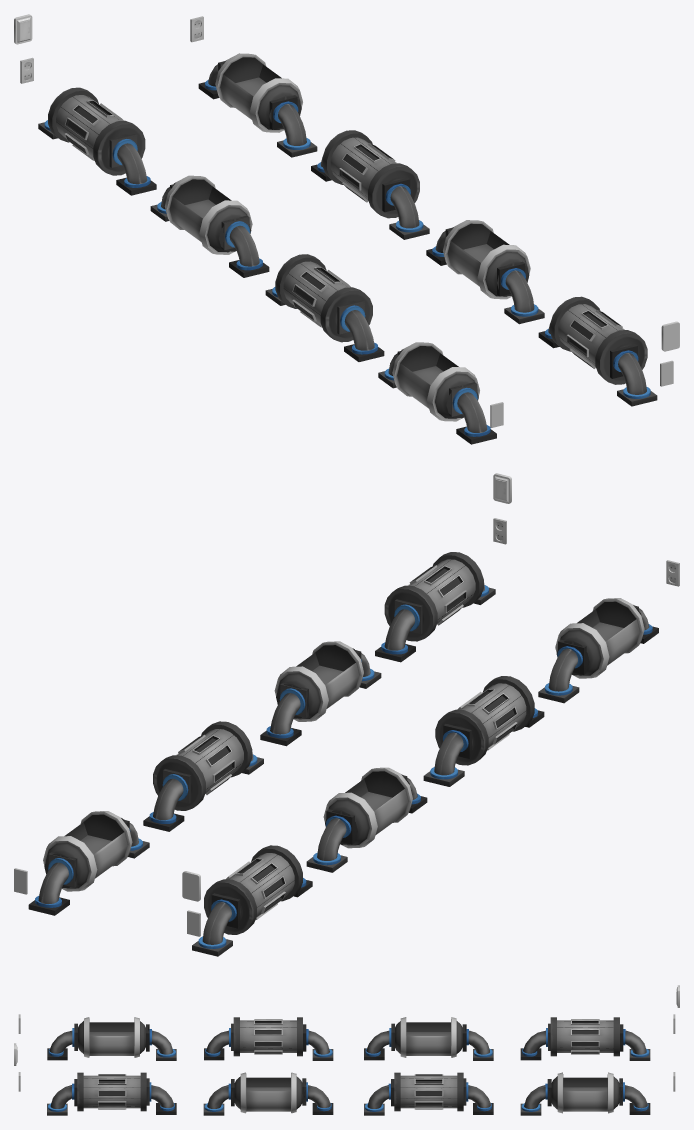
Rendered from Room12Set1.FBX.
3 renders of one model, top to bottom at view 1: azimuth 30°, elevation 25°; view 2: azimuth 150°, elevation 25°; view 3: azimuth 270°, elevation 25°, orthographic. The views are drawn at different scales.
Parts seen in each view (by area): view 1: object108, object102, object090, object096, object105, object111, object093, object099, object091, object110, object097, object088 (+4 smaller); view 2: object102, object108, object090, object096, object105, object111, object093, object099, object109, object089, object103, object092 (+4 smaller); view 3: object090, object096, object108, object102, object093, object099, object111, object105, object088, object095, object094, object089 (+12 smaller).
Part boxes in pixels (bbox=[...]): object108: bbox=[48, 87, 145, 175]; object102: bbox=[275, 254, 372, 342]; object090: bbox=[322, 130, 419, 218]; object096: bbox=[550, 296, 647, 384]; object105: bbox=[392, 342, 479, 421]; object111: bbox=[164, 175, 252, 254]; object093: bbox=[215, 53, 302, 132]; object099: bbox=[443, 220, 530, 299]; object091: bbox=[382, 177, 429, 239]; object110: bbox=[109, 133, 156, 195]; object097: bbox=[610, 344, 657, 406]; object088: bbox=[269, 95, 317, 157]; object102: bbox=[435, 676, 534, 765]; object108: bbox=[204, 845, 302, 934]; object090: bbox=[153, 721, 252, 810]; object096: bbox=[384, 552, 483, 641]; object105: bbox=[555, 598, 644, 678]; object111: bbox=[323, 767, 412, 848]; object093: bbox=[43, 811, 132, 891]; object099: bbox=[274, 641, 363, 721]; object109: bbox=[192, 893, 240, 956]; object089: bbox=[28, 852, 77, 915]; object103: bbox=[423, 724, 471, 786]; object092: bbox=[143, 769, 191, 831]; object090: bbox=[394, 1072, 463, 1111]; object096: bbox=[77, 1072, 146, 1111]; object108: bbox=[550, 1017, 619, 1056]; object102: bbox=[233, 1017, 302, 1056]; object093: bbox=[548, 1072, 622, 1113]; object099: bbox=[231, 1072, 305, 1113]; object111: bbox=[392, 1017, 465, 1057]; object105: bbox=[75, 1017, 148, 1057]; object088: bbox=[520, 1079, 551, 1115]; object095: bbox=[302, 1078, 333, 1114]; object094: bbox=[203, 1079, 234, 1115]; object089: bbox=[619, 1078, 650, 1114].
Size of the model in its own units: 31 by 13.24 by 120.
